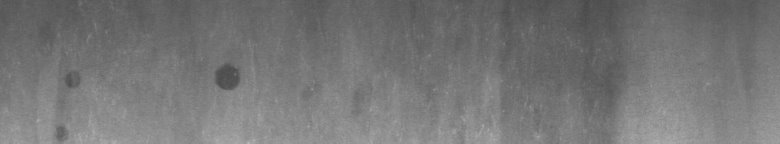fi: (209, 58, 243, 96)
